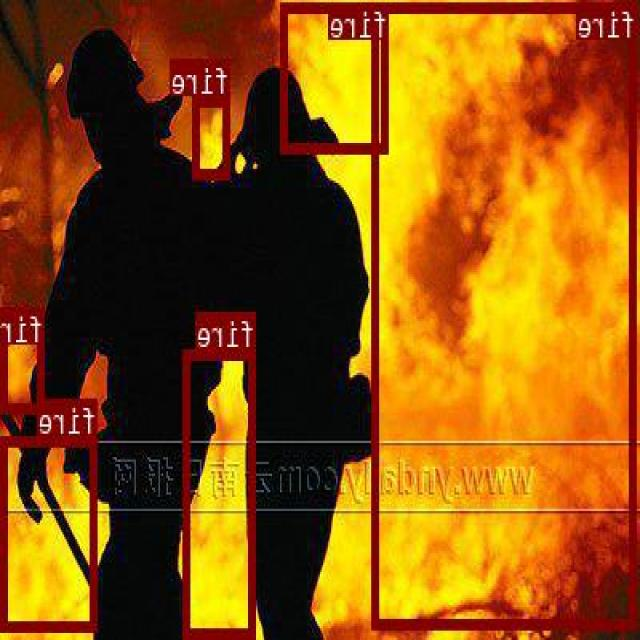fire: (373, 1, 637, 628), (186, 348, 256, 636), (3, 436, 99, 628), (282, 1, 390, 151), (3, 306, 46, 411), (195, 96, 232, 178)
